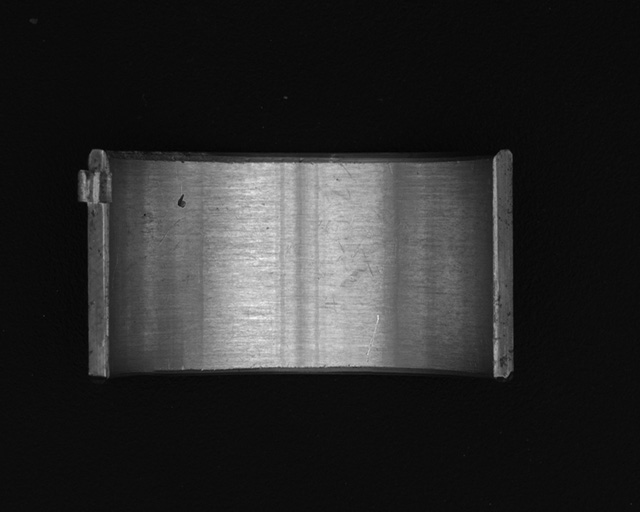blot: (338, 234, 393, 291)
bruise: (176, 192, 188, 209)
nick: (364, 315, 381, 362)
